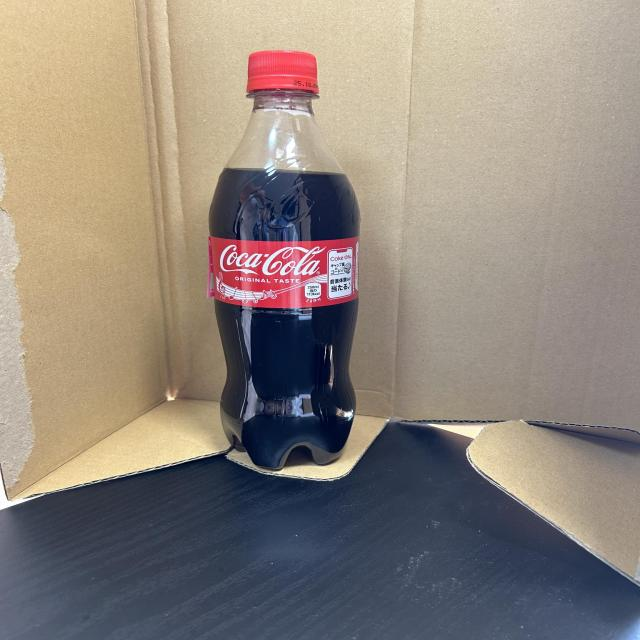high: (207, 50, 361, 469)
